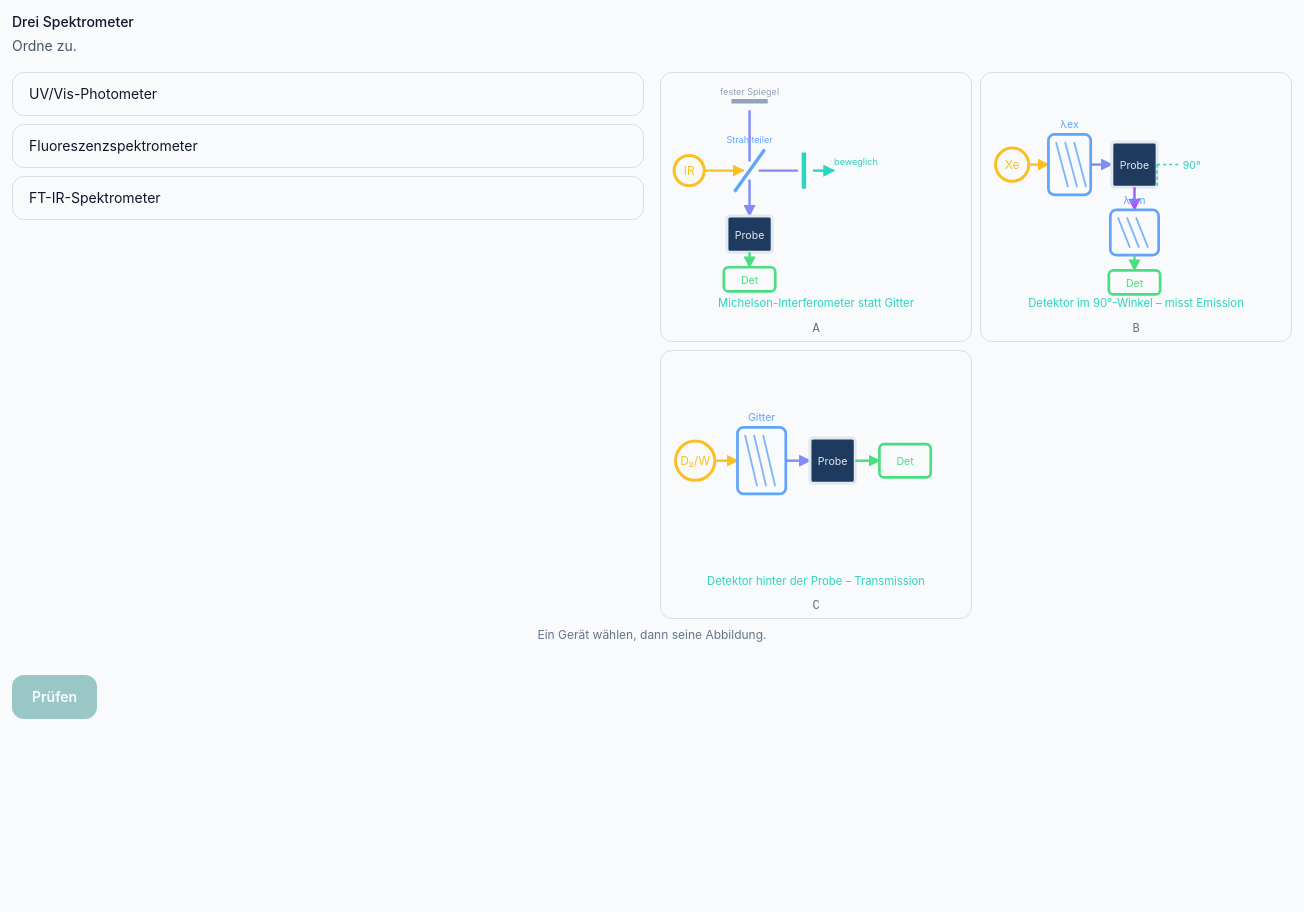
Test: Prüfen › sagt, wie viele fehlen, statt nur "falsch"
This screenshot has width=1304, height=912.
Click the button "UV/Vis-Photometer": x=93, y=94 [12,72,644,116]
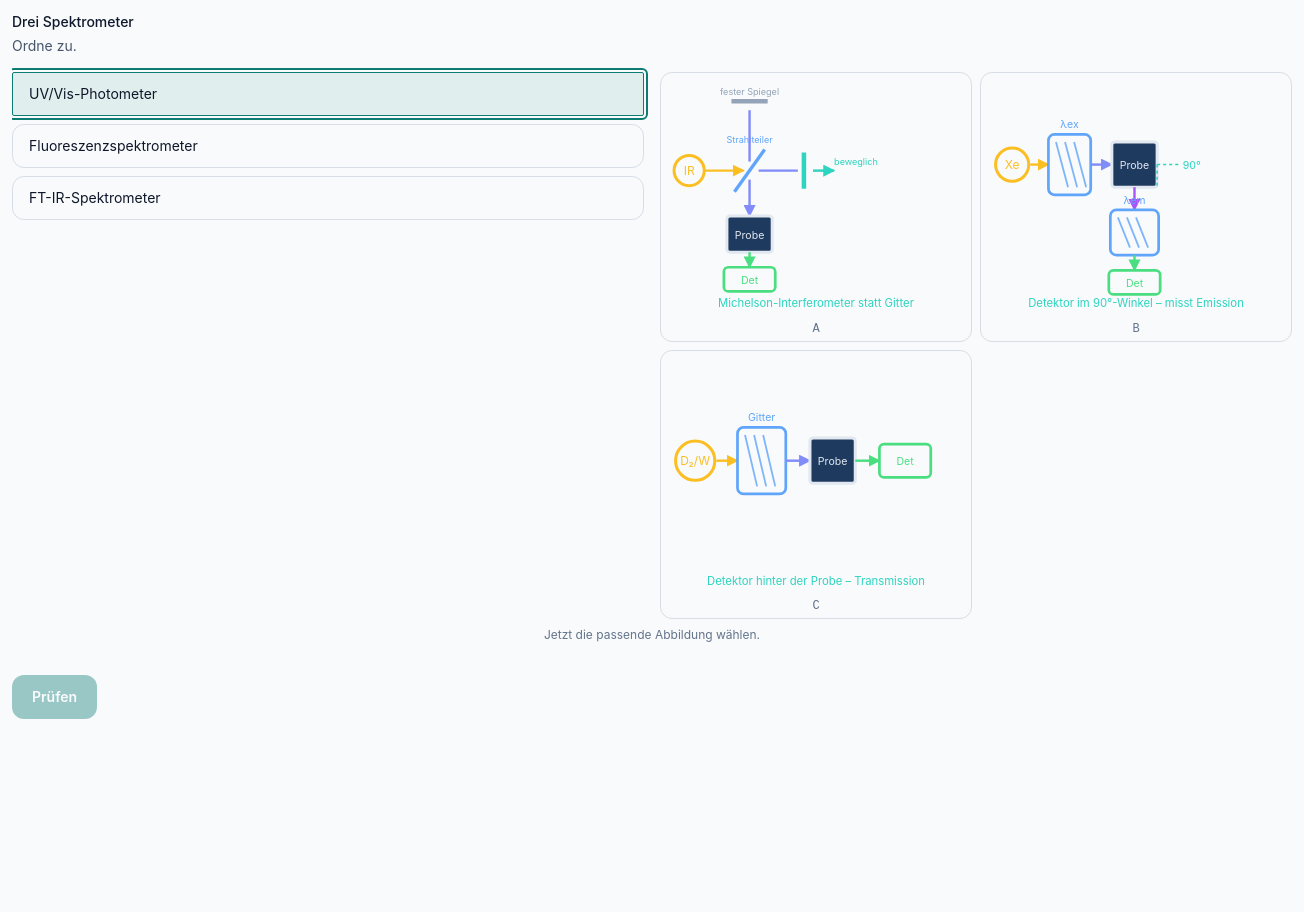
Click the button with aria-label "Abbildung C, noch nicht zugeordnet": x=816, y=484 [660,350,972,619]
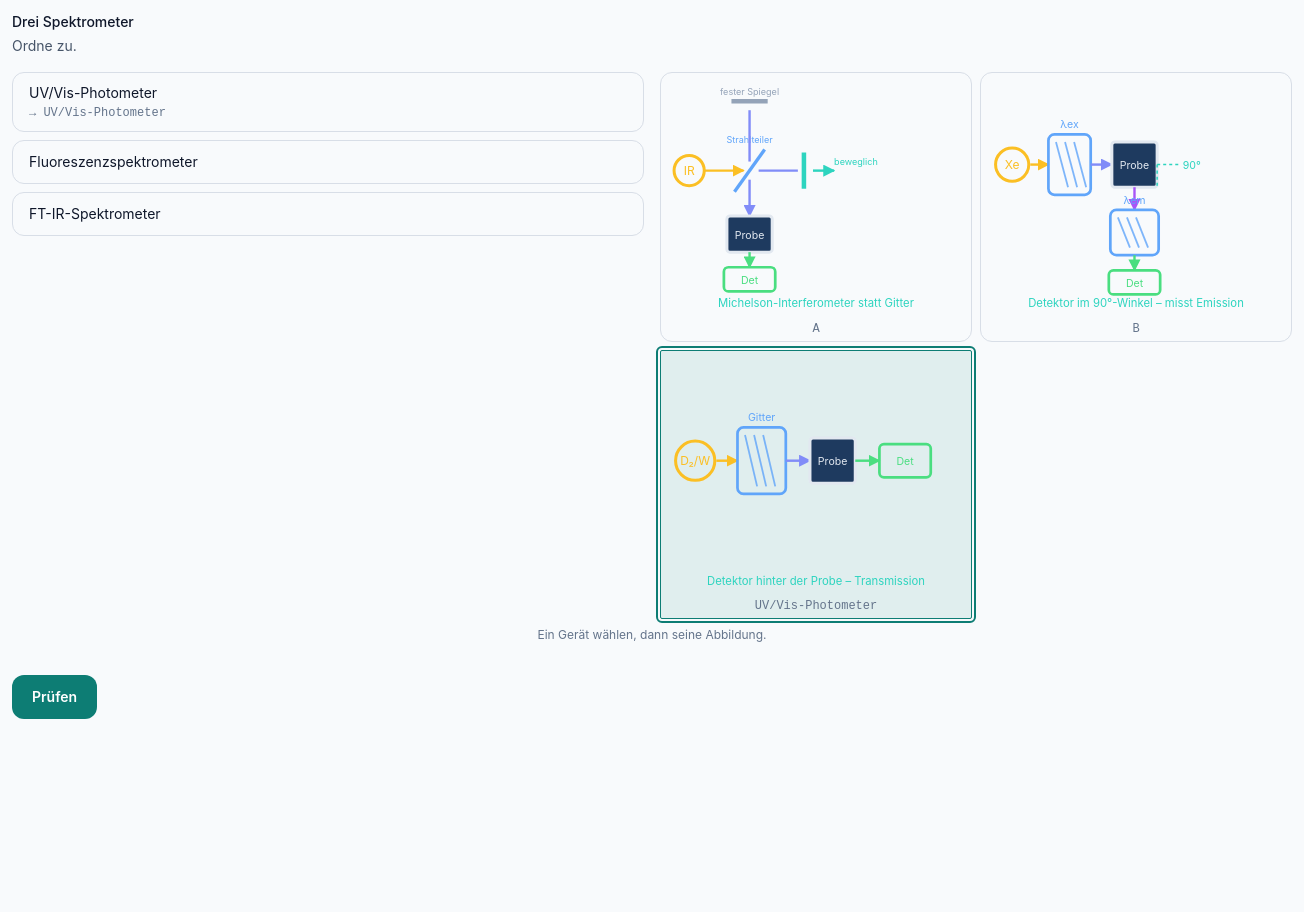
Click the button "Prüfen": x=55, y=697 [12,675,97,719]
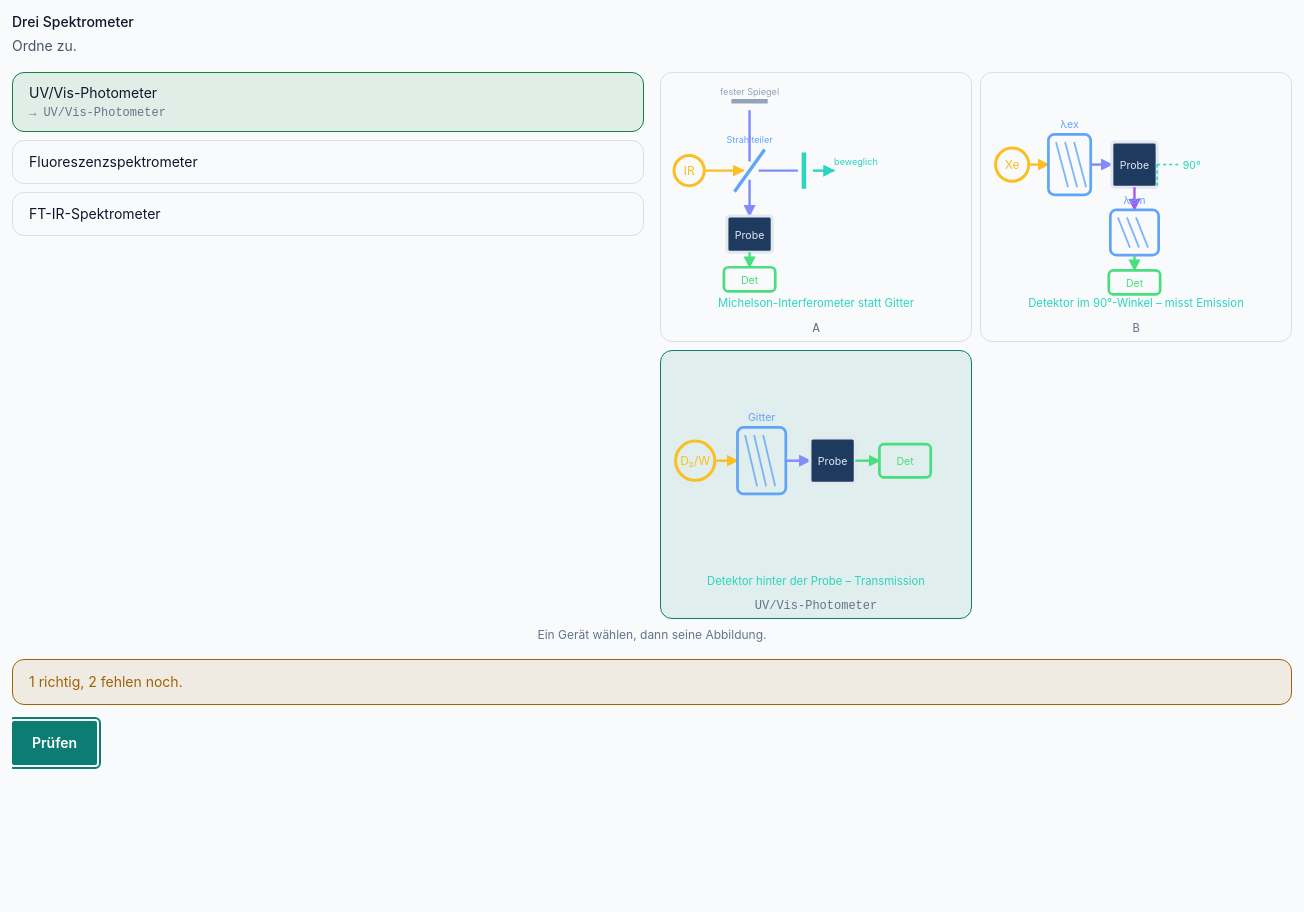
Result: the text "1 richtig, 2 fehlen noch." is shown at [12,659,1292,705]
